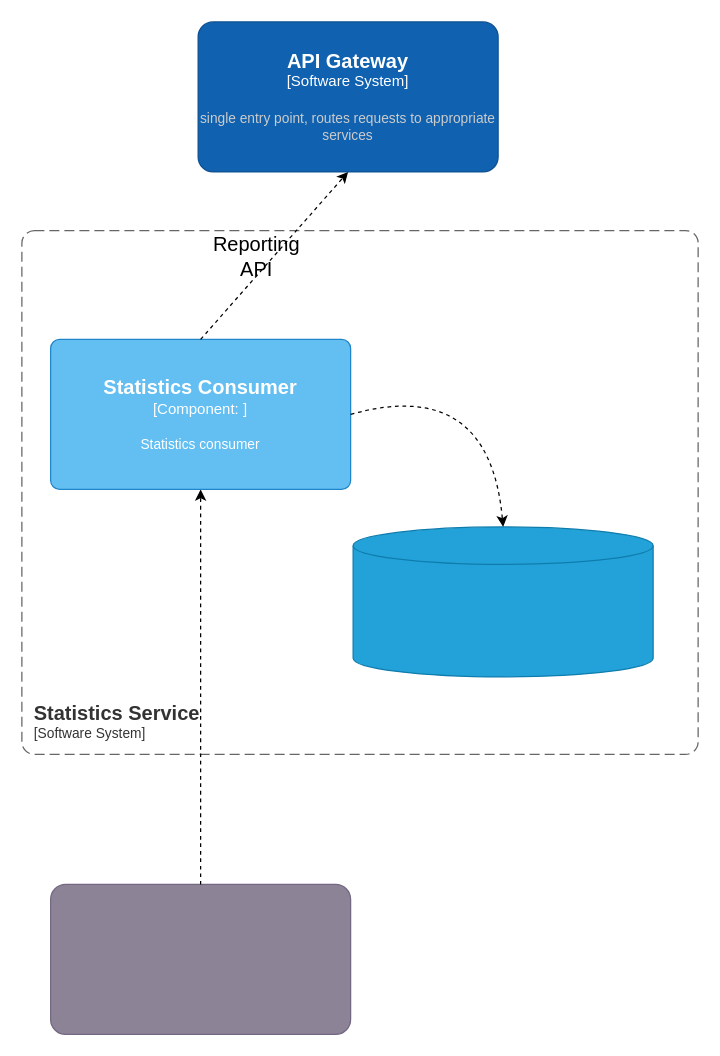
The diagram is 720 pixels wide and 1056 high, and some of its shapes have lost their labels. Each missing label, with the centre of its shape:
"RabbidMQ [Software System] Message broker" belongs at point (200, 958).
"Statistics Database [Container: TBD, probably PostgreSQL] Local database." belongs at point (502, 601).
